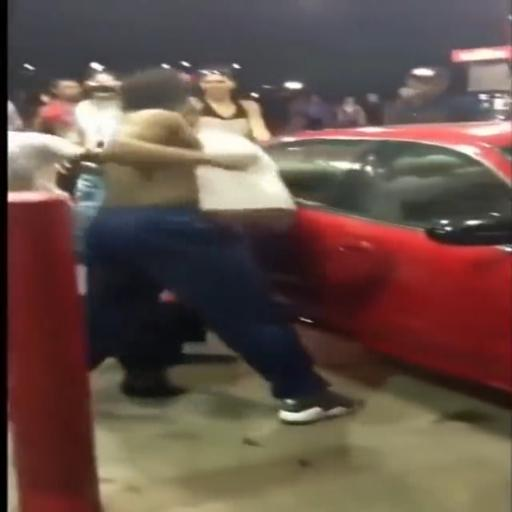violencia: (66, 54, 373, 432)
